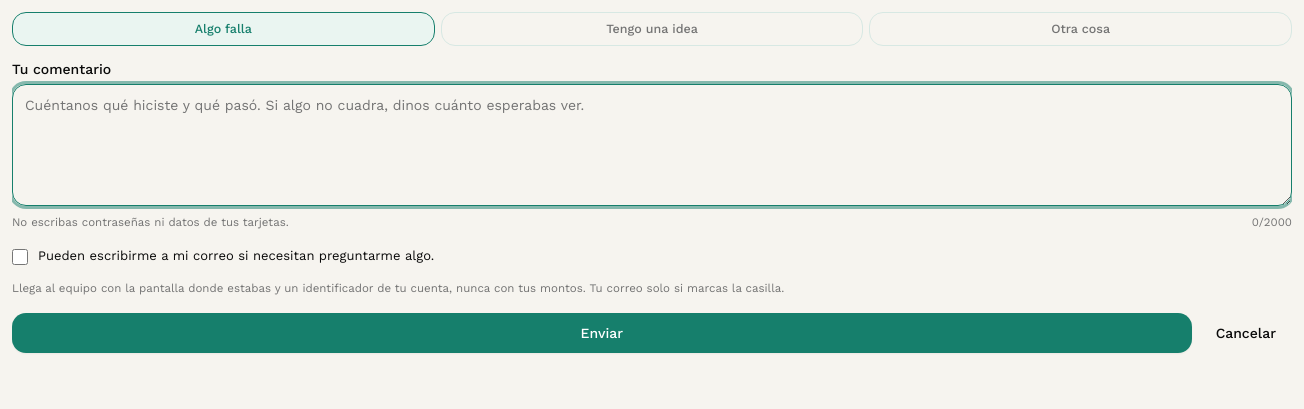
Scenario: FormularioComentarios › si falla el envío, lo dice y conserva lo que la persona escribió
Type "Texto largo que no se debe perder" into the text box labelled "Tu comentario" at x=652, y=145, box left=12, top=84, right=1292, bottom=206
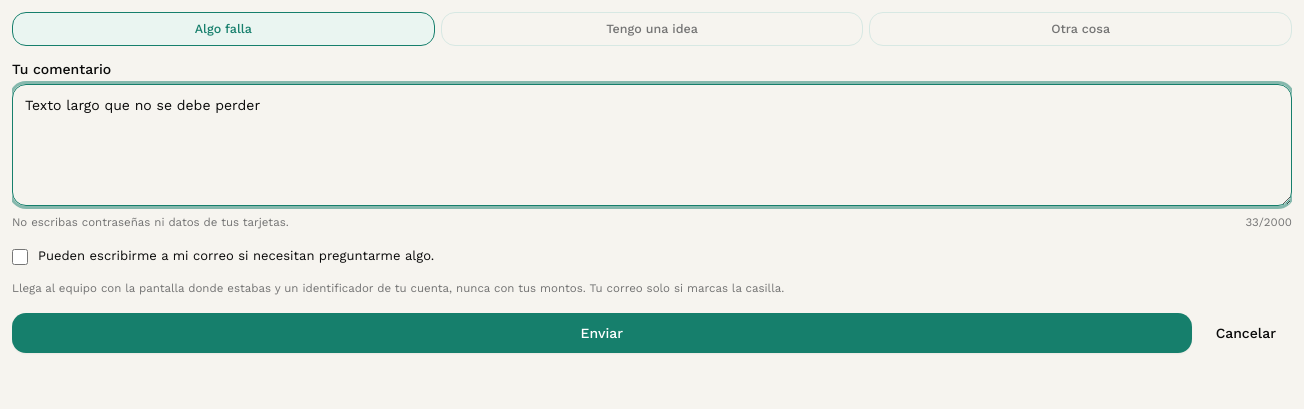
Click the button "Enviar" at x=602, y=333, box left=12, top=313, right=1192, bottom=353
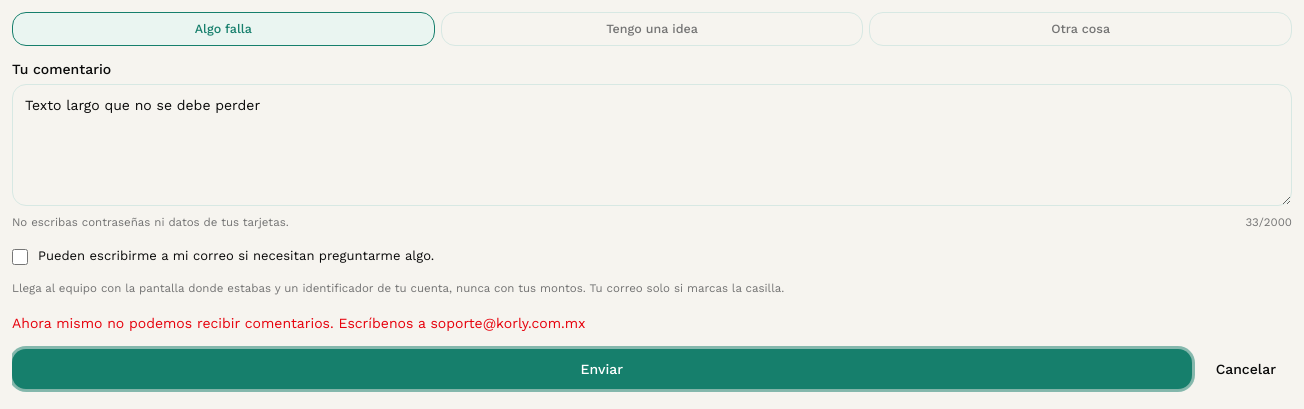
Check: the text "Escríbenos a soporte@korly.com.mx" is shown, box left=12, top=315, right=586, bottom=331
